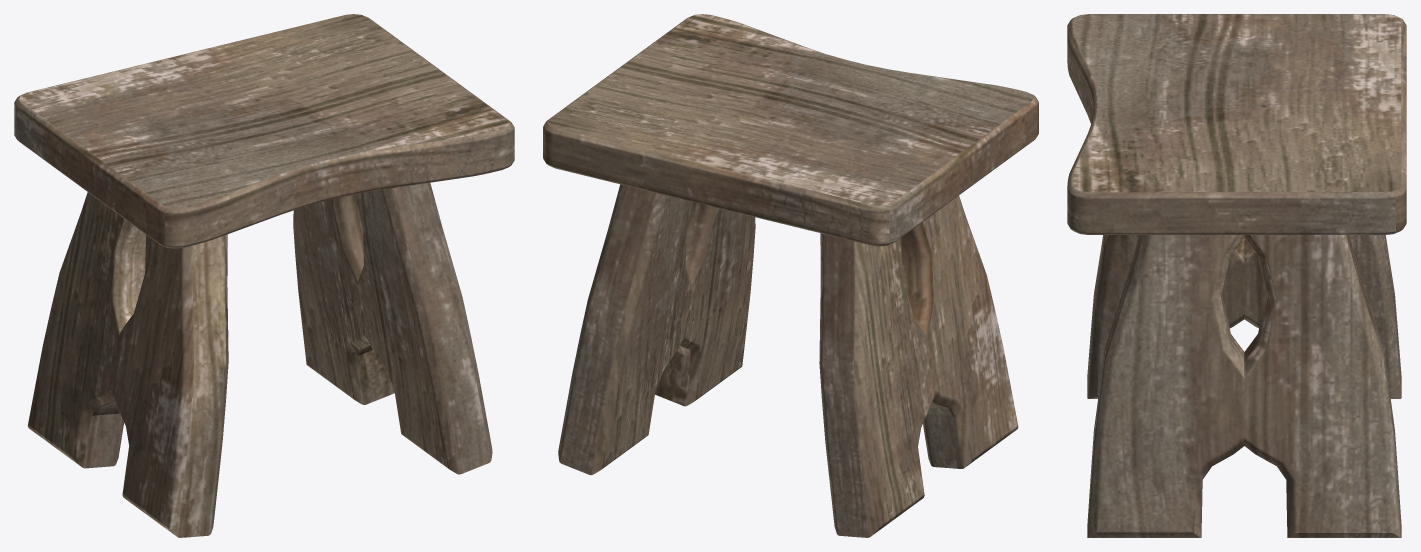
Rendered from SM_Stool_Short.fbx.
3 views of the same model, side by side, from view 1: azimuth 30°, elevation 25°; view 2: azimuth 150°, elevation 25°; view 3: azimuth 270°, elevation 25° (orthographic). The views are drawn at different scales.
Parts seen in each view (by area): view 1: SM_Stool_Short_LOD0; view 2: SM_Stool_Short_LOD0; view 3: SM_Stool_Short_LOD0.
Part boxes in pixels (box(x1,y1,x2,y2)): SM_Stool_Short_LOD0: box(14, 14, 514, 537); SM_Stool_Short_LOD0: box(543, 14, 1038, 537); SM_Stool_Short_LOD0: box(1067, 14, 1406, 537).
Size of the model in its own units: 51.38 by 40.4 by 47.33.
1 material, 1 textured.
